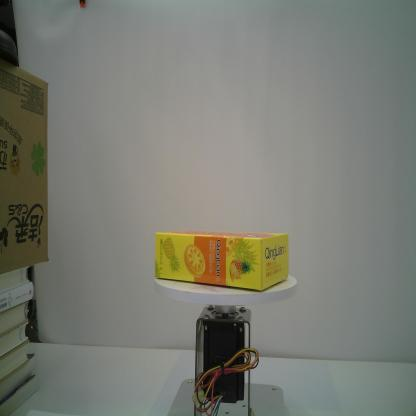Dessert: (155, 229, 289, 291)
